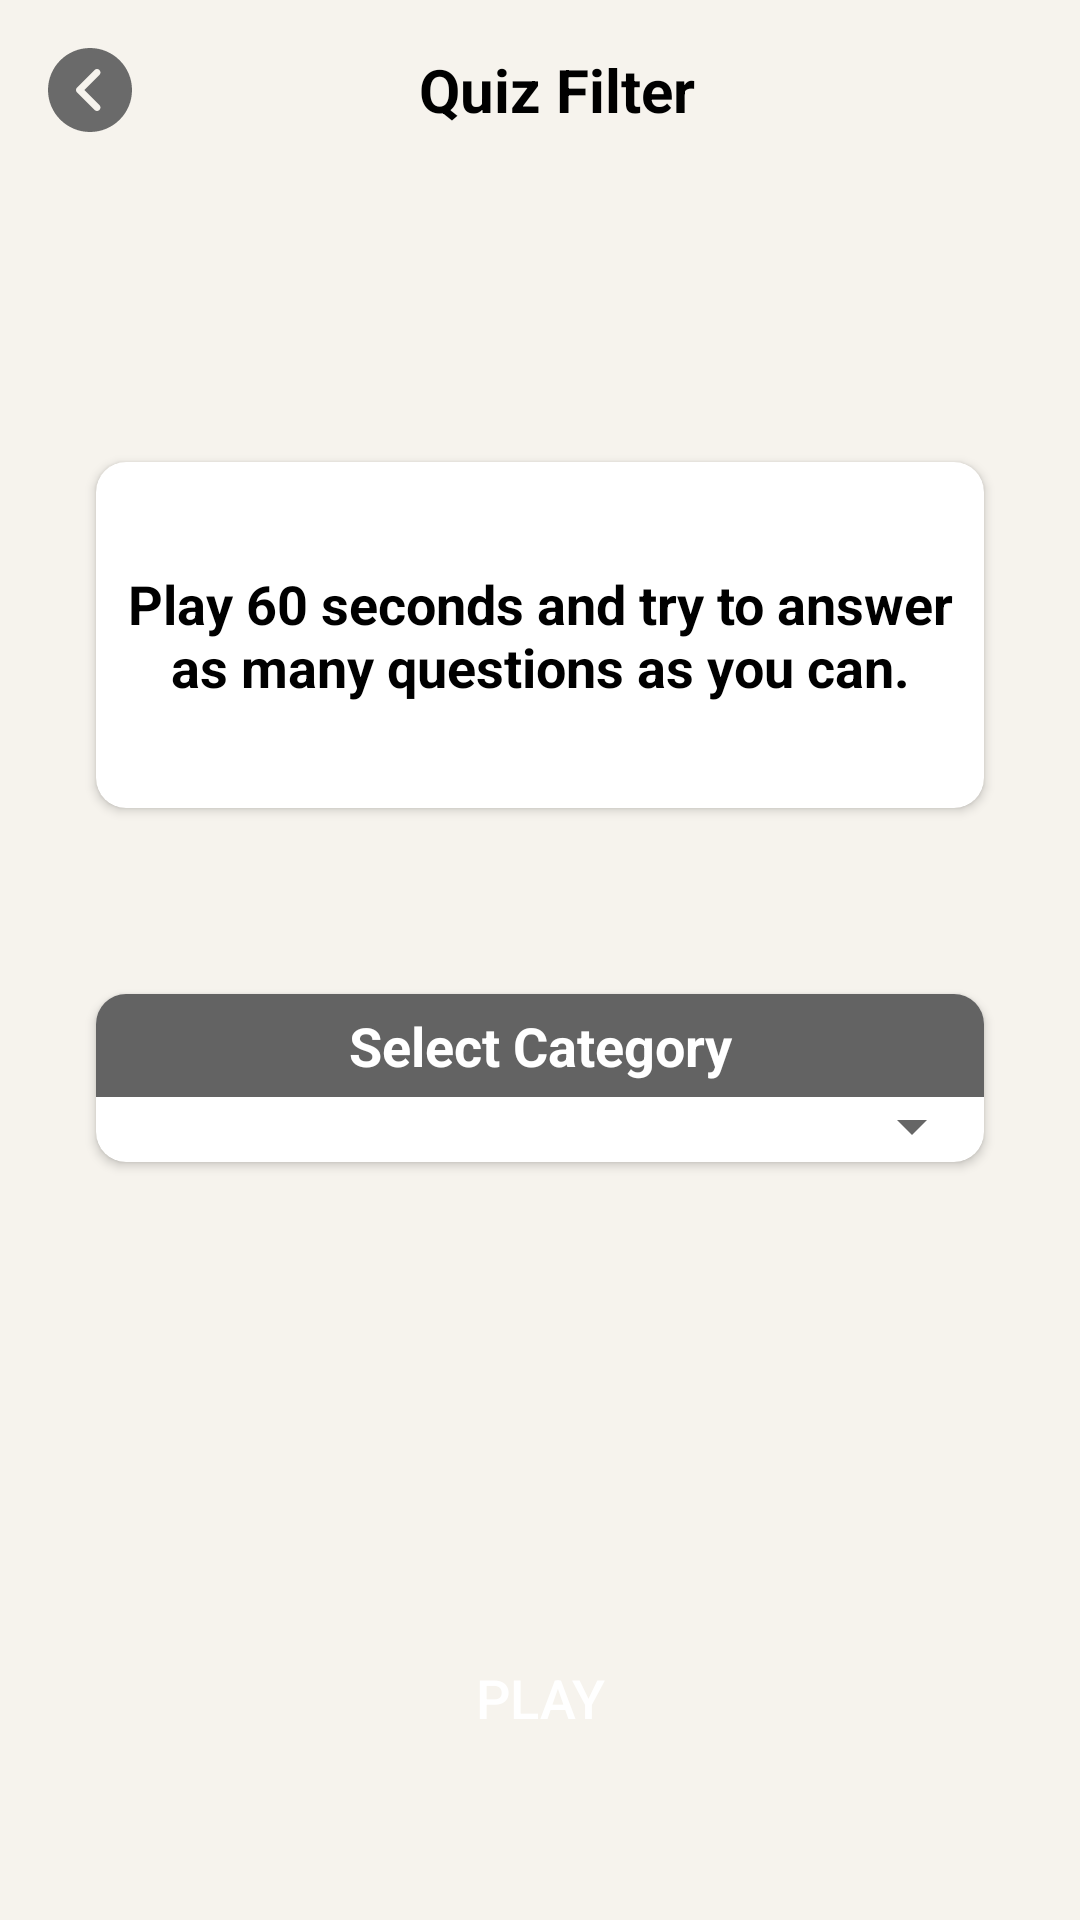

Icon bounding boxes for this 1080×1920 phone screenshot, format (x1, y1, x2, y2):
Back Button: (48, 48, 132, 132)
